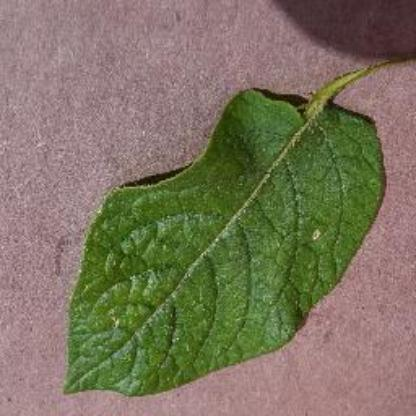Healthy-plant: (59, 65, 397, 399)
